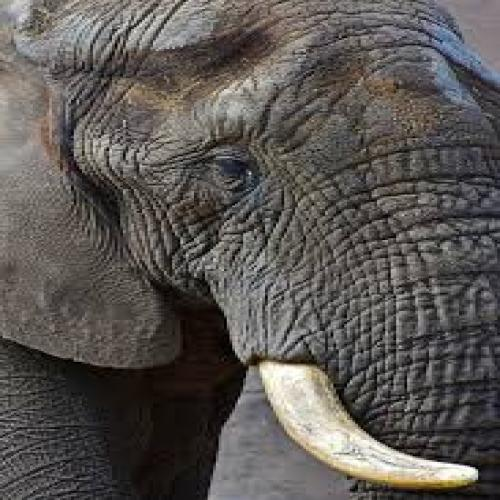asian_elephant-endangered: (21, 21, 485, 481)
